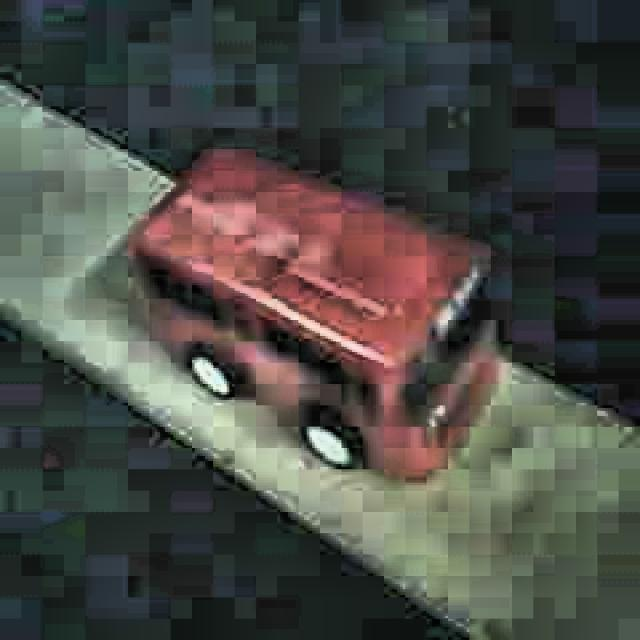bus: (122, 146, 495, 487)
